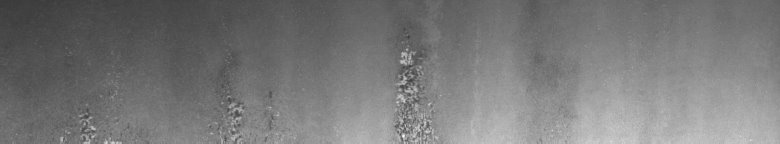hc: (392, 28, 436, 136)
